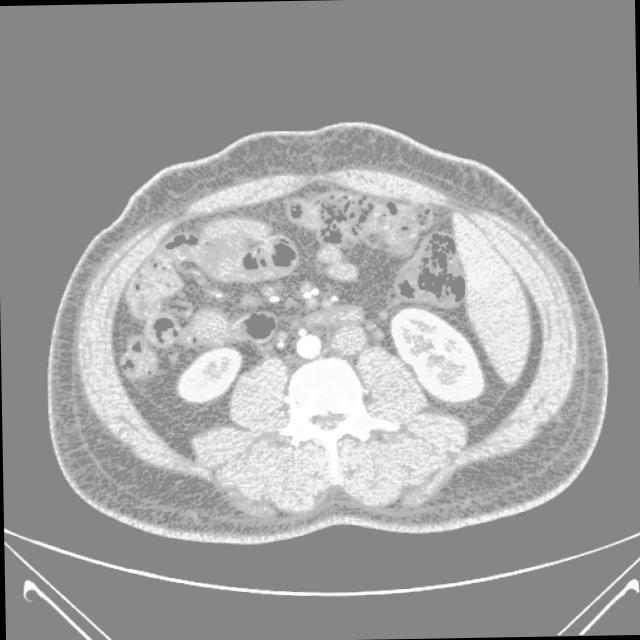NORMAL: (31, 134, 612, 563)
